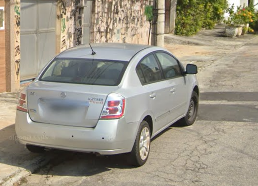car: (14, 41, 200, 167)
